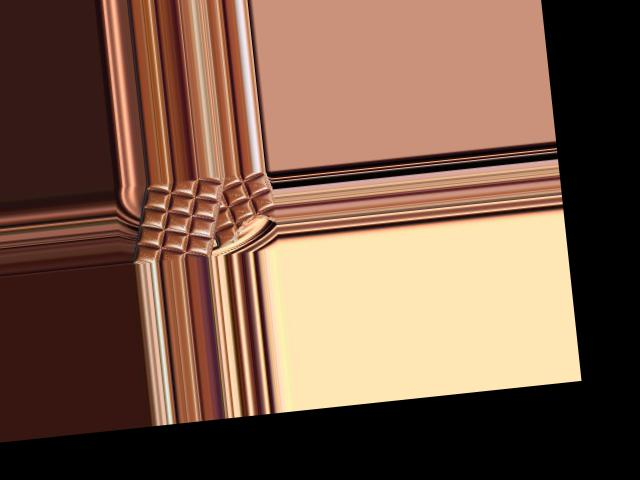chocolate: (123, 174, 233, 263)
